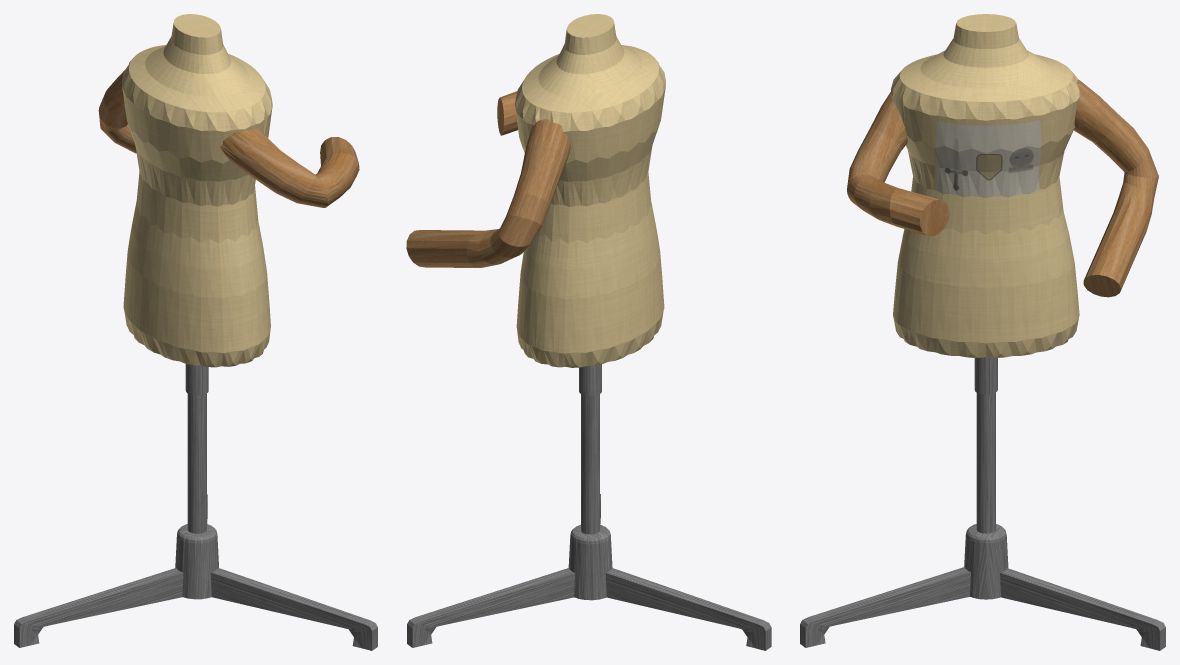
File: assetPropDummy.fbx
3 renders of one model, left to right at view 1: azimuth 30°, elevation 25°; view 2: azimuth 150°, elevation 25°; view 3: azimuth 270°, elevation 25°, orthographic.
Parts seen in each view (by area): view 1: DummyNew; view 2: DummyNew; view 3: DummyNew.
Part boxes in pixels (x1,y1,x2,y2): DummyNew: (14,14,377,650); DummyNew: (406,14,771,650); DummyNew: (800,14,1165,650).
Bounding box in the file's own units: 0.9137 × 1.65 × 0.9435.
